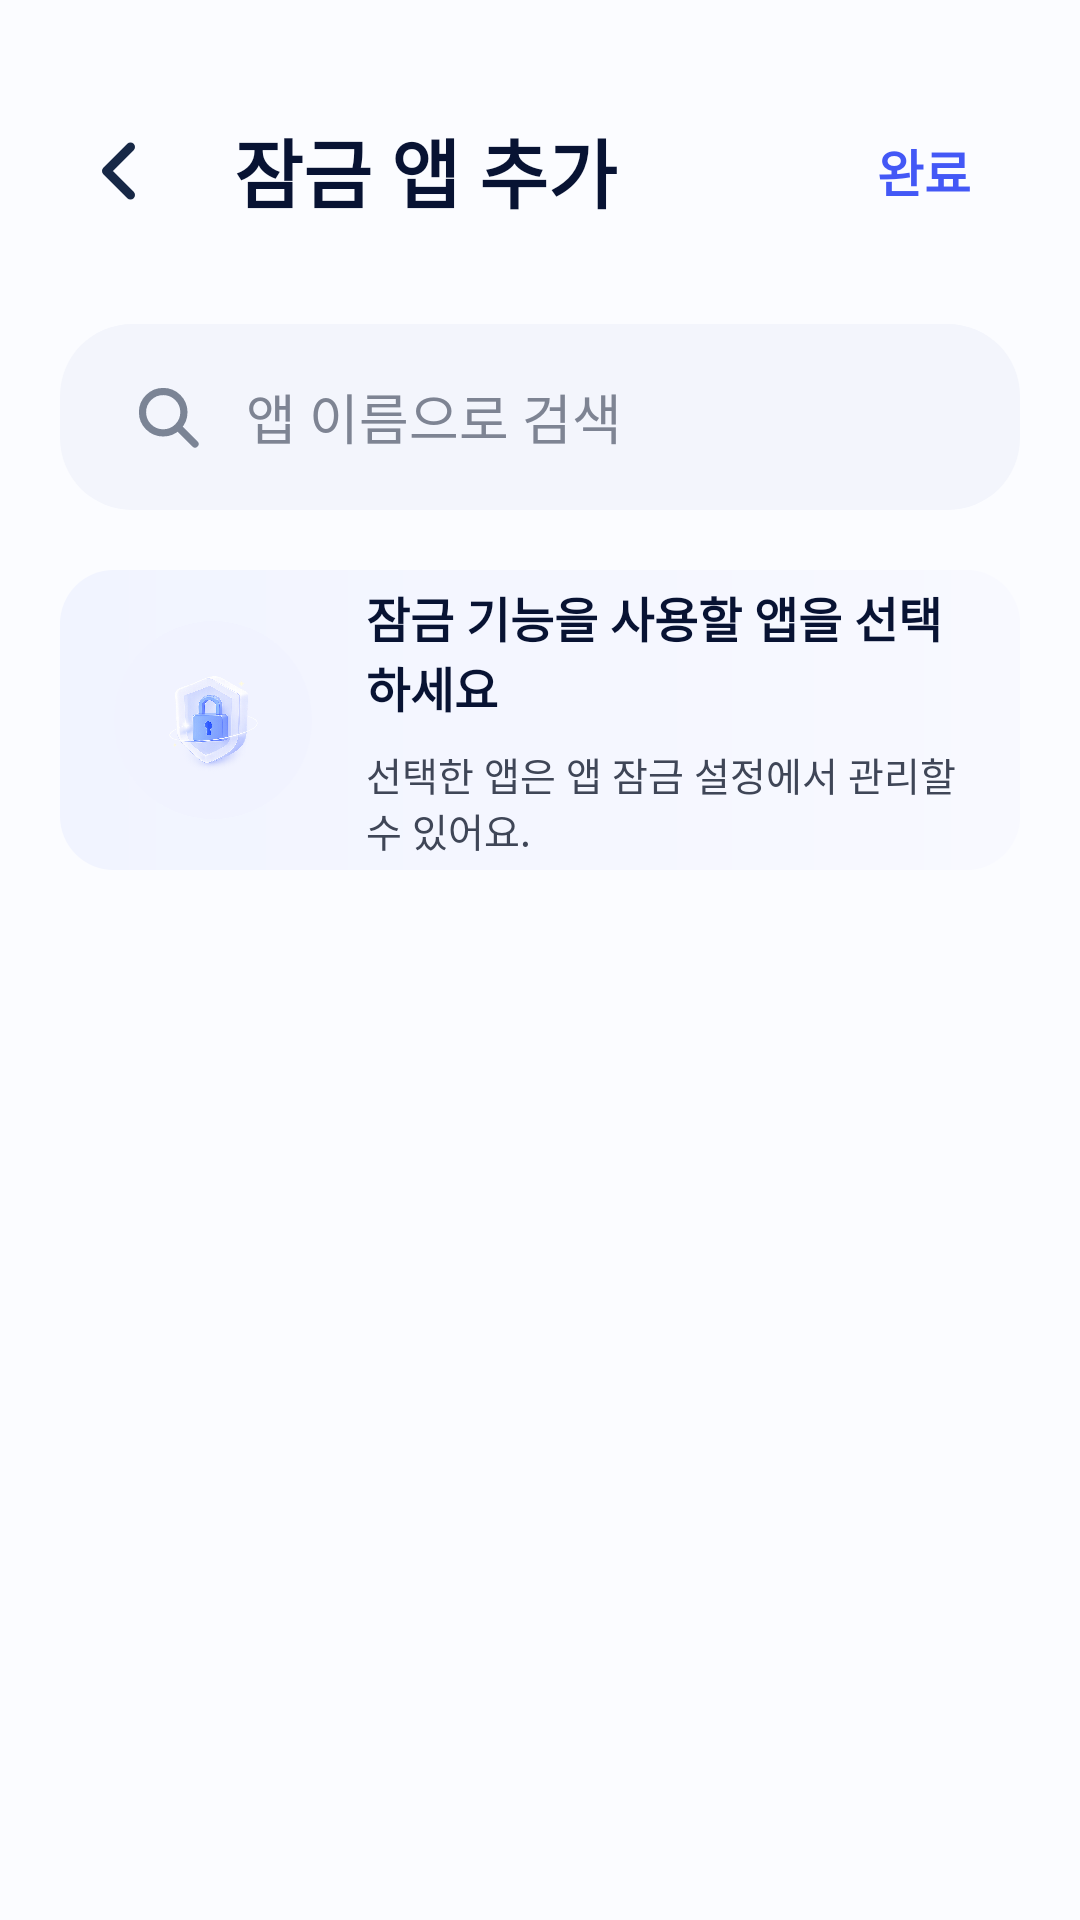

Named icons in this screenshot (1080x1920) and their bounding boxes, (x1, y1, x2, y2):
lock back: (102, 142, 135, 200)
lock shield: (174, 682, 247, 765)
select search: (139, 388, 199, 448)
